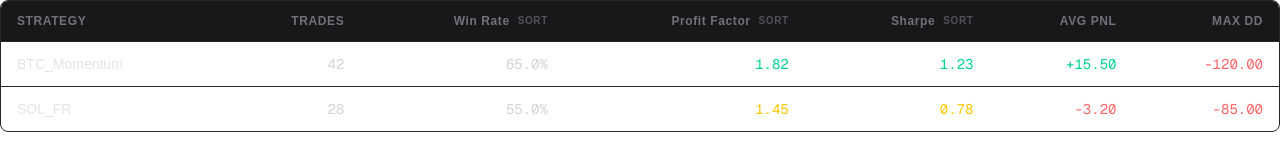
Test case: StrategyTable › toggles to ASC on second click
What coordinates should you click on to do the following:
click the button "Win Rate SORT"
I would click on:
 (501, 21)
Its box is [454,13,548,29].
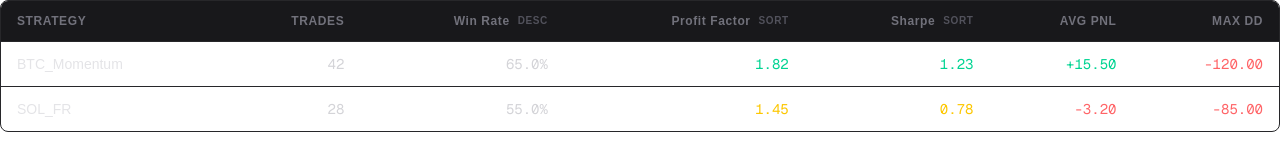
What coordinates should you click on to do the following:
click the button "Win Rate DESC"
I would click on:
 (501, 21)
Its box is [454,13,548,29].
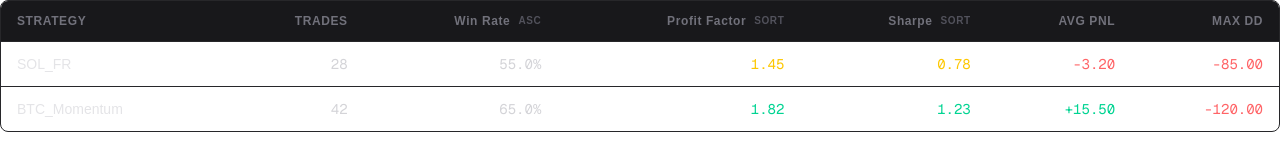
Check: the row "SOL_FR 28 55.0% 1.45 0.78 -3.20 -85.00" is shown, box [1,42,1279,86]
Check: the text "ASC" is shown, box [518,14,541,28]
